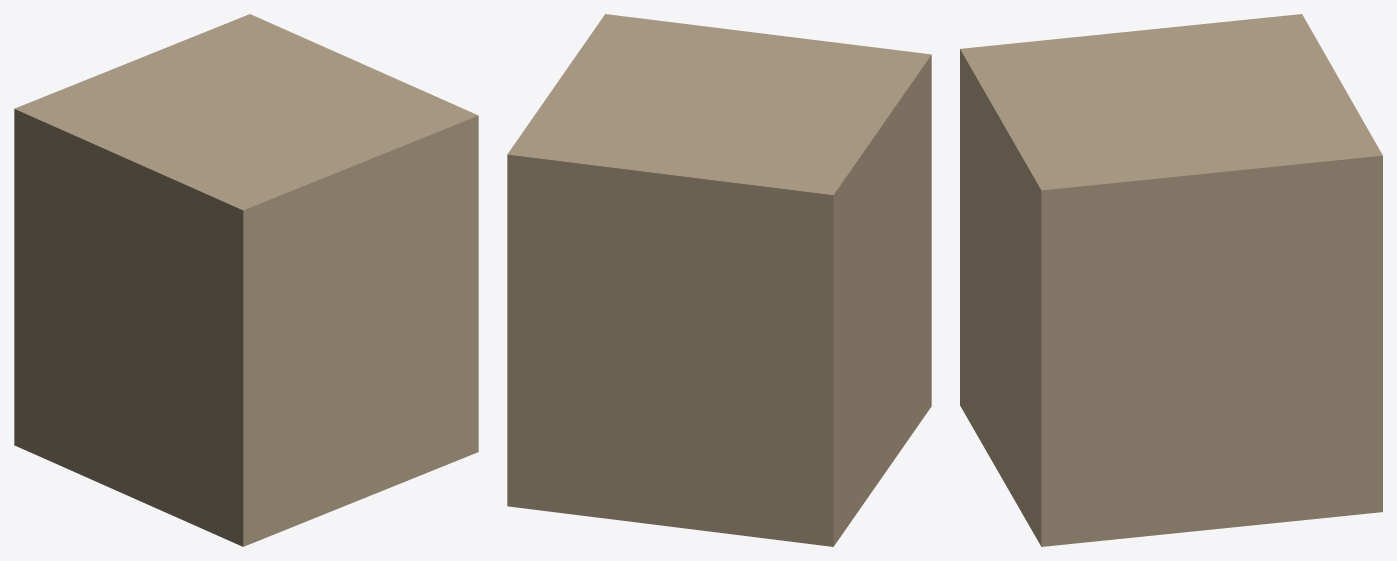
Rendered from bld_99872143.dae.
3 renders of one model, left to right at view 1: azimuth 30°, elevation 25°; view 2: azimuth 150°, elevation 25°; view 3: azimuth 270°, elevation 25°, orthographic. The views are drawn at different scales.
Parts seen in each view (by area): view 1: bld_99872143; view 2: bld_99872143; view 3: bld_99872143.
Part boxes in pixels (<box>): bld_99872143: <box>14,14,478,546</box>; bld_99872143: <box>507,14,931,546</box>; bld_99872143: <box>960,14,1382,546</box>.
Bounding box in the file's own units: 8.49 × 8.6 × 8.
